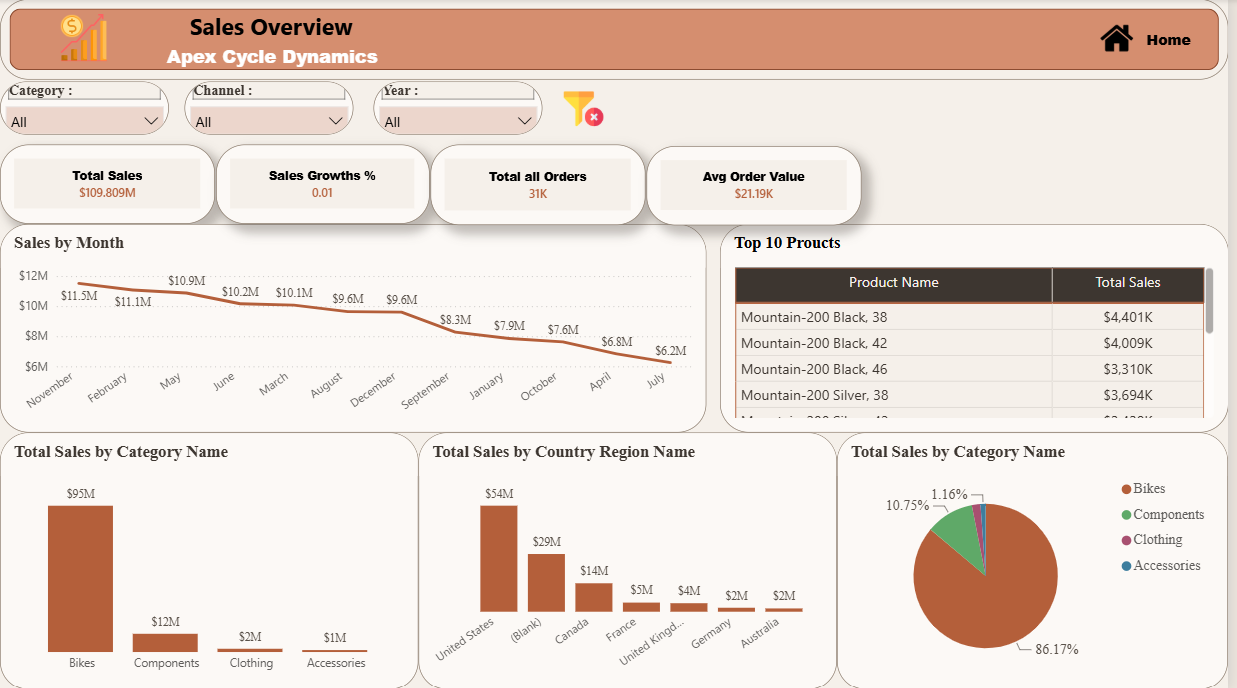

Layout of this report page (visuals, bound fields, positions):
{"tool":"powerbi","page":{"name":"Sales Overview","canvas":[1280,720],"ordinal":1},"visuals":[{"type":"shape","box":[0,0,1280,84],"z":0},{"type":"slicer","fields":{"Values":["DimReseller.ResellerName"]},"box":[0,86.2,176.2,55],"z":1000},{"type":"cardVisual","title":"Total sales","fields":{"Data":["_Measures.Total Sales"]},"box":[0,151.2,224.3,82.9],"z":2000},{"type":"image","box":[576.7,93.3,62.6,41.2],"z":3000},{"type":"lineChart","title":"Sales by Month","fields":{"Category":["DimDate.EnglishMonthName"],"Y":["_Measures.Total Sales"]},"box":[0,233.8,736.3,217.4],"z":4000},{"type":"tableEx","title":"Top 10 Proucts","fields":{"Values":["DimProduct.Product Name","_Measures.Total Sales"]},"box":[750,235,529.9,217.3],"z":5000},{"type":"cardVisual","title":"Total sales","fields":{"Data":["_Measures.Sales Growths %"]},"box":[225,151.7,222.9,82.9],"z":6000},{"type":"cardVisual","title":"Total sales","fields":{"Data":["_Measures.Total all Orders"]},"box":[448.3,151.7,224.3,84.3],"z":7000},{"type":"cardVisual","title":"Total sales","fields":{"Data":["FactResellerSales.Avg Order Value"]},"box":[673.3,153.3,224.3,82.9],"z":8000},{"type":"clusteredColumnChart","fields":{"Category":["DimProductSubcategory.Category Name"],"Y":["_Measures.Total Sales"]},"box":[0,451.2,436.2,268.8],"z":9000},{"type":"clusteredColumnChart","fields":{"Category":["DimGeography.Country Region Name"],"Y":["_Measures.Total Sales"]},"box":[436.2,451.2,436.2,268.8],"z":10000},{"type":"pieChart","fields":{"Category":["DimProductSubcategory.Category Name"],"Y":["_Measures.Total Sales"]},"box":[872.5,451.2,407.5,268.8],"z":11000},{"type":"image","box":[8.3,15,159.7,49.9],"z":12000},{"type":"textbox","title":"Apex Cycle Dynamics","box":[131.2,41.2,304.7,42.1],"z":13000},{"type":"textbox","box":[88,6,390,62],"z":14000},{"type":"slicer","fields":{"Values":["Channel.Channel"]},"box":[192.5,86.2,176.2,55],"z":15000},{"type":"slicer","fields":{"Values":["DimCustomer.Gender"]},"box":[388.8,86.2,176.2,55],"z":16000},{"type":"image","box":[1126,22.9,76.8,34.5],"z":17000},{"type":"textbox","box":[1180.9,26,72.3,42.6],"z":18000}]}

Visuals, with their boxes in screenshot pixels (x1, y1, x2, y2), scaled from the page's 1280x720 canvas onto the 1237x688 screenshot:
shape: detection(0, 0, 1236, 80)
slicer - DimReseller.ResellerName: detection(0, 82, 170, 135)
"Total sales" cardVisual: detection(0, 144, 217, 224)
image: detection(557, 89, 618, 129)
"Sales by Month" lineChart: detection(0, 223, 712, 431)
"Top 10 Proucts" tableEx: detection(725, 225, 1236, 432)
"Total sales" cardVisual: detection(217, 145, 433, 224)
"Total sales" cardVisual: detection(433, 145, 650, 226)
"Total sales" cardVisual: detection(651, 146, 867, 226)
clusteredColumnChart - DimProductSubcategory.Category Name x _Measures.Total Sales: detection(0, 431, 422, 687)
clusteredColumnChart - DimGeography.Country Region Name x _Measures.Total Sales: detection(422, 431, 843, 687)
pieChart - DimProductSubcategory.Category Name x _Measures.Total Sales: detection(843, 431, 1236, 687)
image: detection(8, 14, 162, 62)
"Apex Cycle Dynamics" textbox: detection(127, 39, 421, 80)
textbox: detection(85, 6, 462, 65)
slicer - Channel.Channel: detection(186, 82, 356, 135)
slicer - DimCustomer.Gender: detection(376, 82, 546, 135)
image: detection(1088, 22, 1162, 55)
textbox: detection(1141, 25, 1211, 66)
